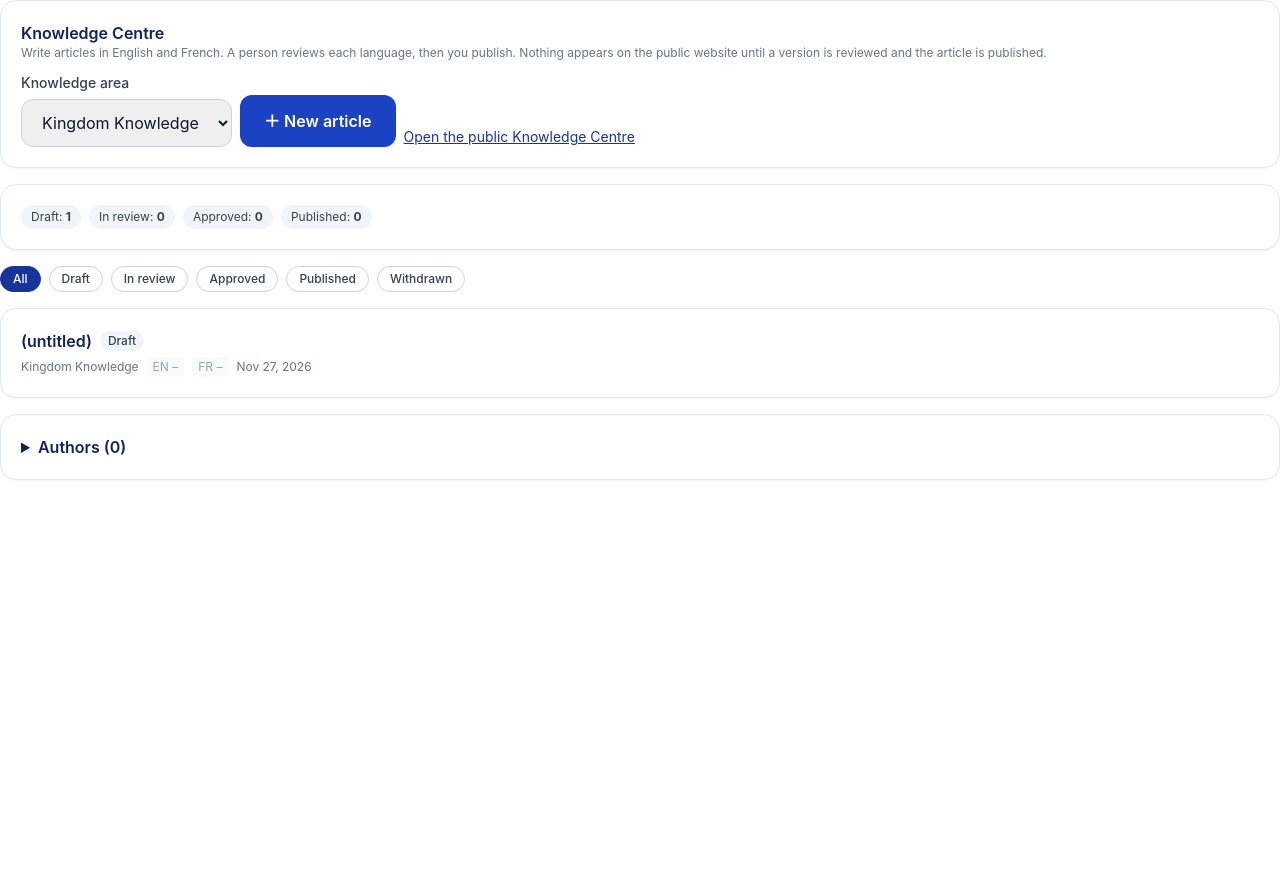
Test: Picture upload in the editor › shows progress, then the chosen picture, and saves it with the details
Later steps or results of the test are not shown.
Click the button with test id "kc-row" at x=56, y=341, box x1=0 y1=308 x2=1279 y2=398
(page scrolled)
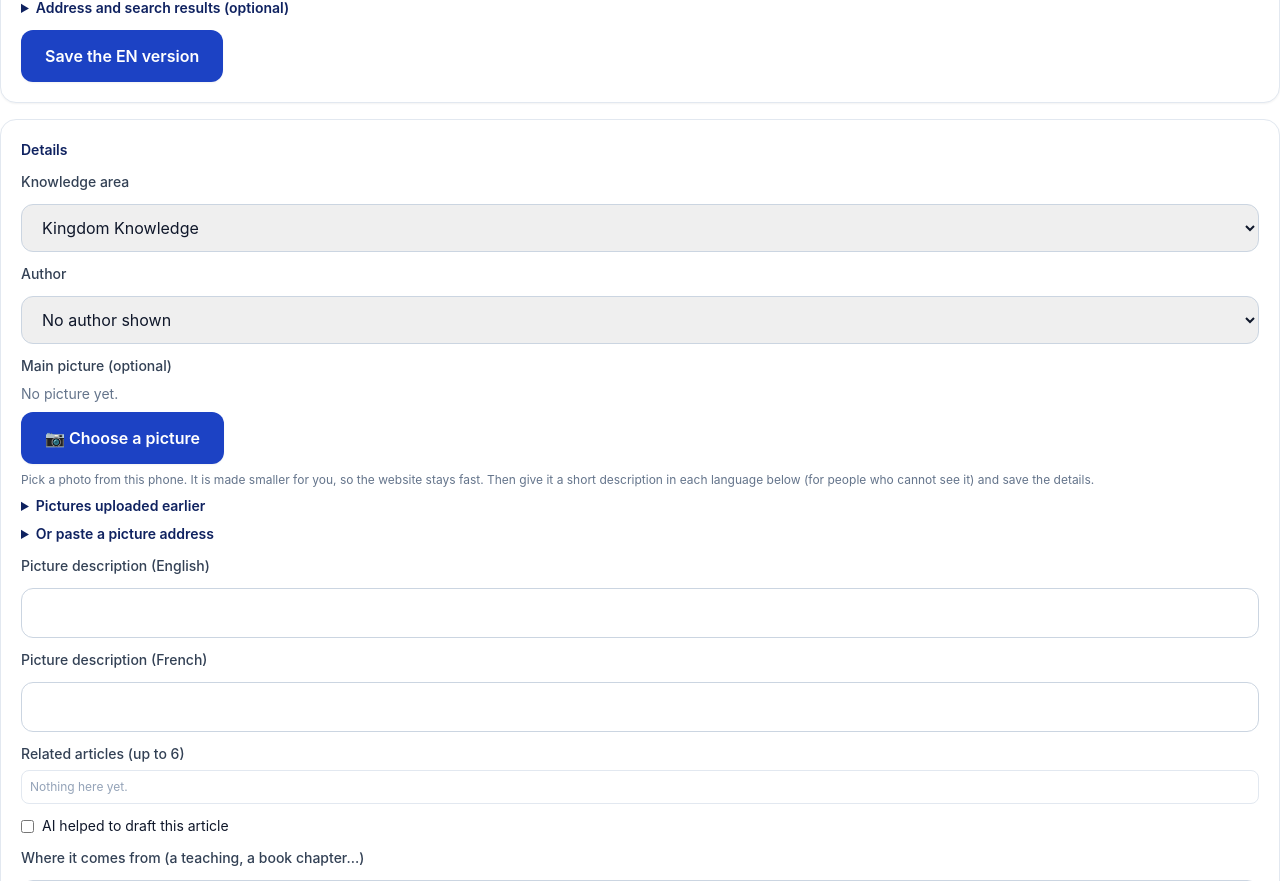
Now the element with test id "kc-picture" shows "No picture yet.", box x1=21 y1=385 x2=118 y2=402
